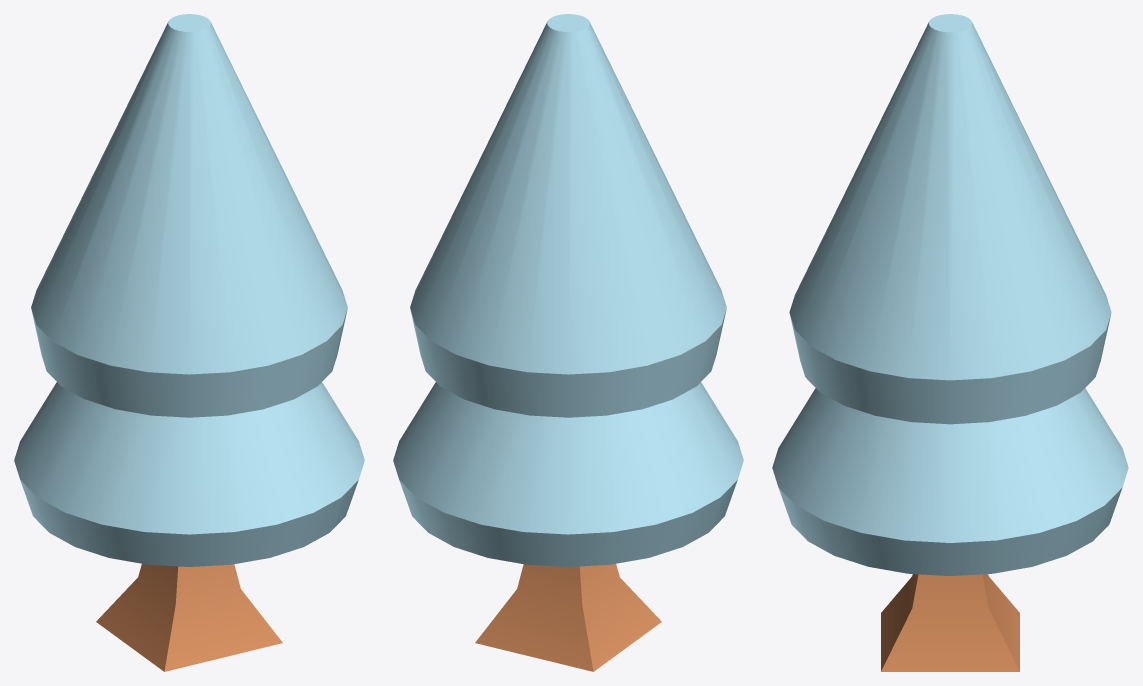
File: treePineSmallSnow.glb
3 renders of one model, left to right at view 1: azimuth 30°, elevation 25°; view 2: azimuth 150°, elevation 25°; view 3: azimuth 270°, elevation 25°, orthographic.
Visible parts, largest first — view 1: treePineSmallSnow; view 2: treePineSmallSnow; view 3: treePineSmallSnow.
Part boxes in pixels (<box>): treePineSmallSnow: <box>14,14,364,671</box>; treePineSmallSnow: <box>393,14,743,671</box>; treePineSmallSnow: <box>772,14,1128,671</box>.
Size of the model in its own units: 0.7114 by 1.36 by 0.7114.
